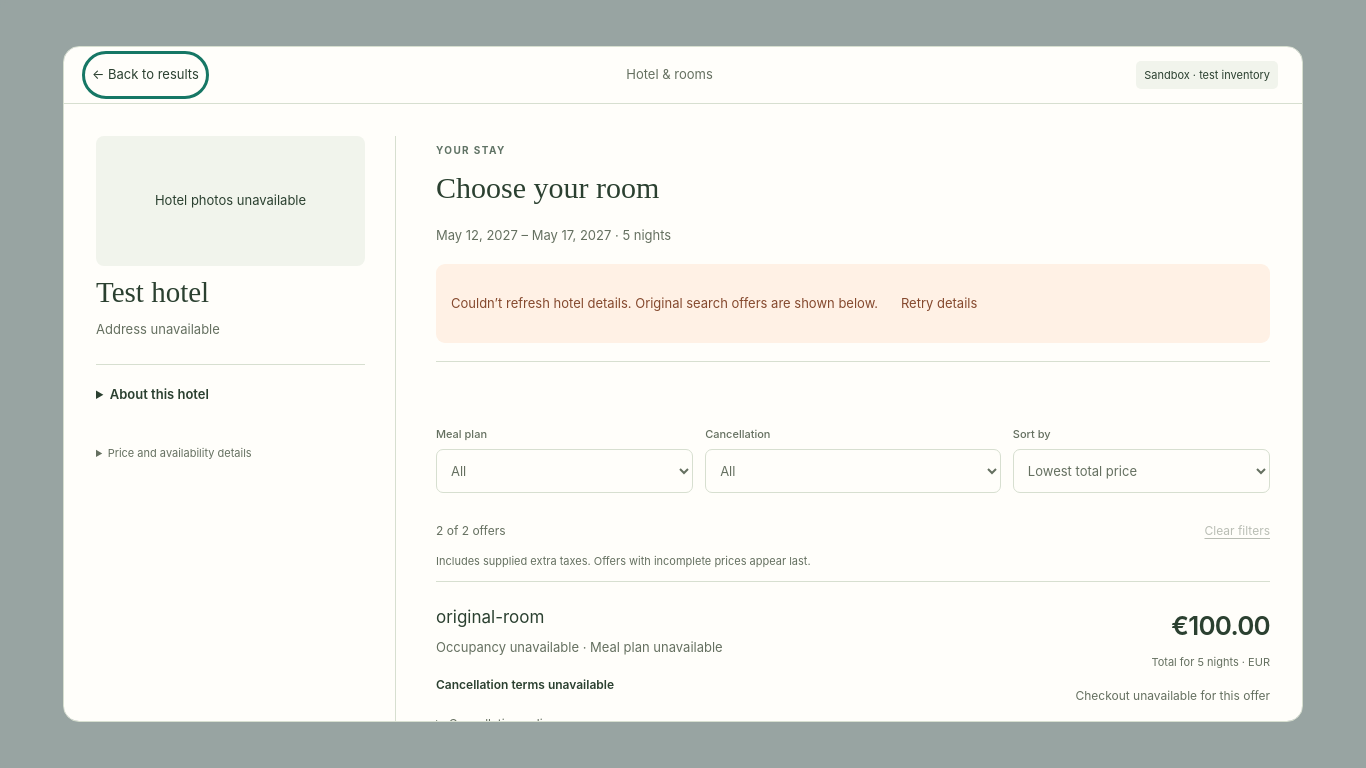
Test: failed refresh preserves original rooms and reference, reports auth expiry and retries to empty
This screenshot has width=1366, height=768.
Expected: the 1st message is shown, [436,264,1270,343]
Expected: the heading "original-room" is shown, [436,607,544,627]
Click the button "Retry details". click: (939, 304)
box: [882,279,996,328]
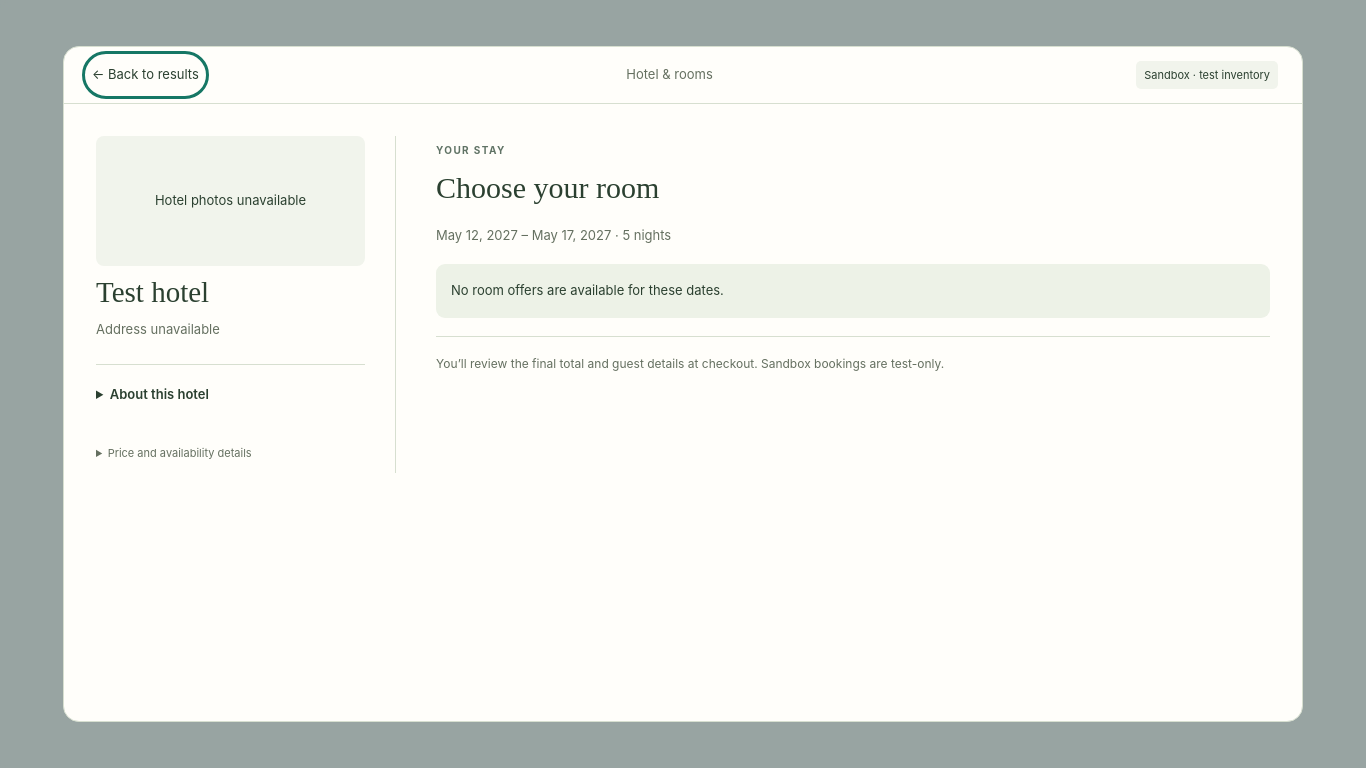
Result: the text "No room offers are available for these dates." is shown at [436,264,1270,318]
Result: the message is gone
Result: the heading "original-room" is gone
